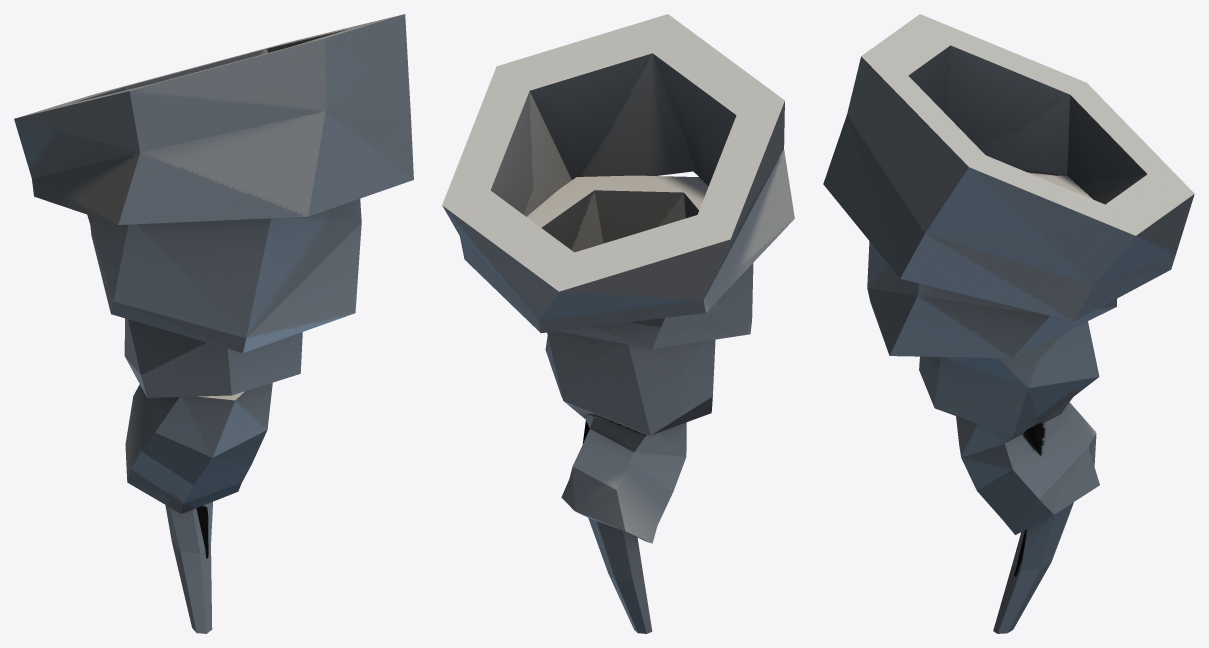
The model's file is tornado 02 ok animated.fbx.
The picture shows the model from 3 angles, left to right: view 1: azimuth 30°, elevation 25°; view 2: azimuth 150°, elevation 25°; view 3: azimuth 270°, elevation 25°; orthographic projection. The views are drawn at different scales.
Parts seen in each view (by area): view 1: node-0; view 2: node-0; view 3: node-0.
Boxes of the visible parts, x1,y1,x2,y2 form: node-0: (14,14,413,633); node-0: (442,14,794,633); node-0: (823,14,1194,633).
Size of the model in its own units: 120 by 221 by 125.
Materials: 1 (1 with a texture image).
